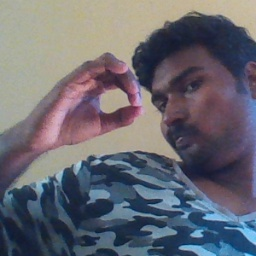O: (29, 51, 147, 147)
